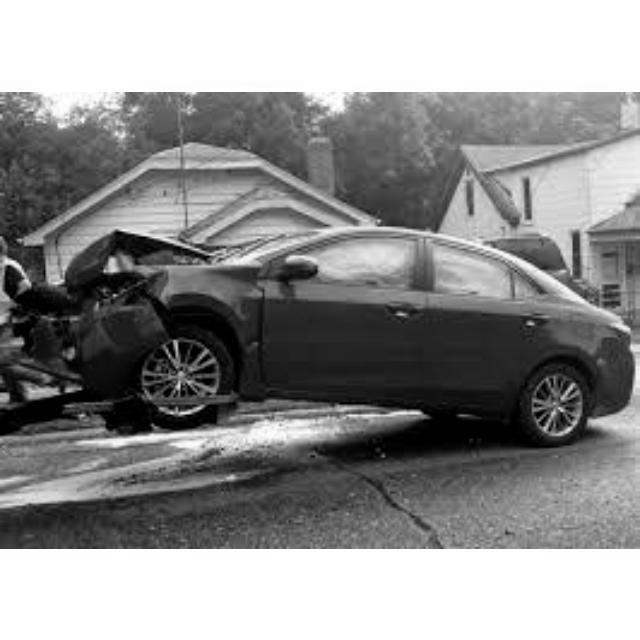bonnet-dent: (59, 224, 198, 274)
fender-dent: (143, 253, 260, 344)
front-bumper-dent: (22, 294, 94, 373)
